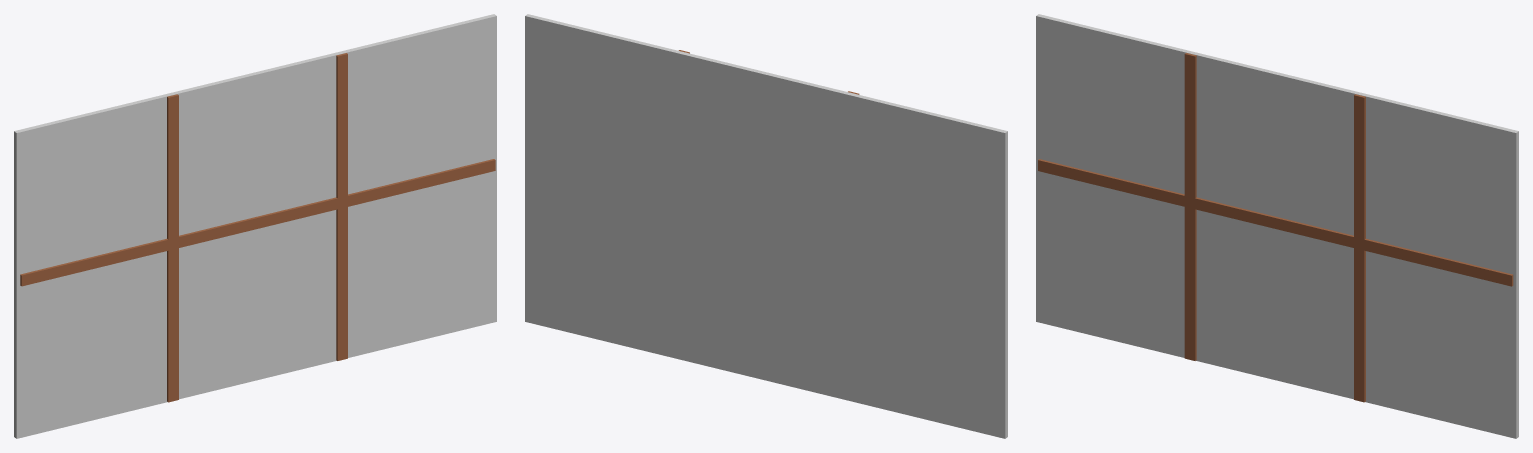
The model's file is windows1.fbx.
3 views of the same model, side by side, from view 1: azimuth 30°, elevation 25°; view 2: azimuth 150°, elevation 25°; view 3: azimuth 330°, elevation 25° (orthographic).
Visible parts, largest first — view 1: Plane.032; view 2: Plane.032; view 3: Plane.032.
Boxes of the visible parts, x1,y1,x2,y2 form: Plane.032: [14, 14, 496, 438]; Plane.032: [525, 14, 1007, 438]; Plane.032: [1036, 14, 1518, 438].
Size of the model in its own units: 2.03 by 1.24 by 0.0309.
